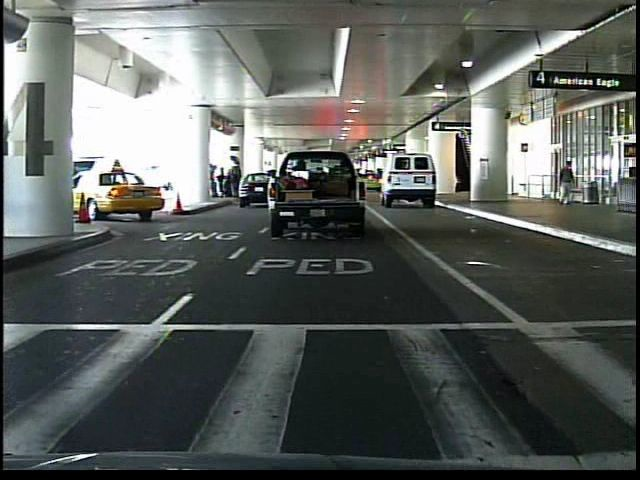person: (556, 159, 576, 211)
